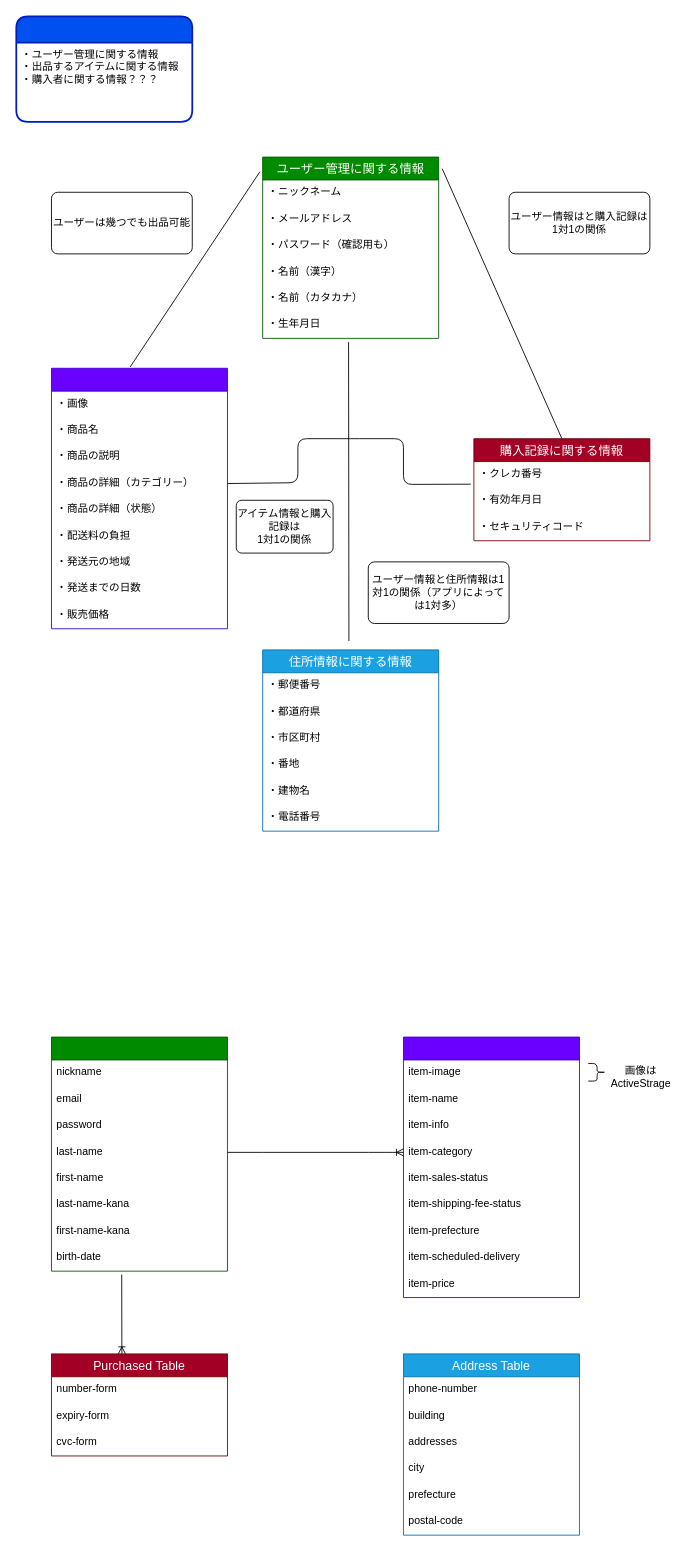
Image size: 691x1552. Some labels were removed from this diagram. Each missing label, with the box of its shape:
Entity: (15, 15, 193, 122)
Items Table: (403, 1036, 579, 1298)
Users Table: (51, 1036, 227, 1271)
出品するアイテムに関する情報: (51, 367, 227, 629)
